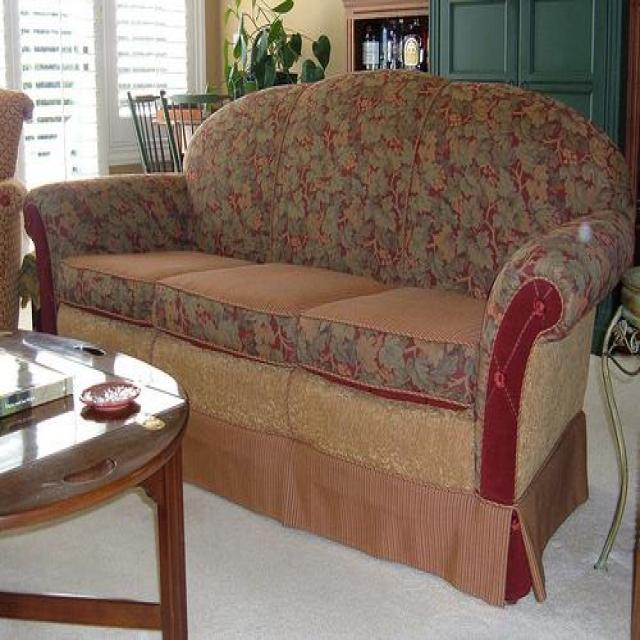sofa: (20, 65, 635, 608)
